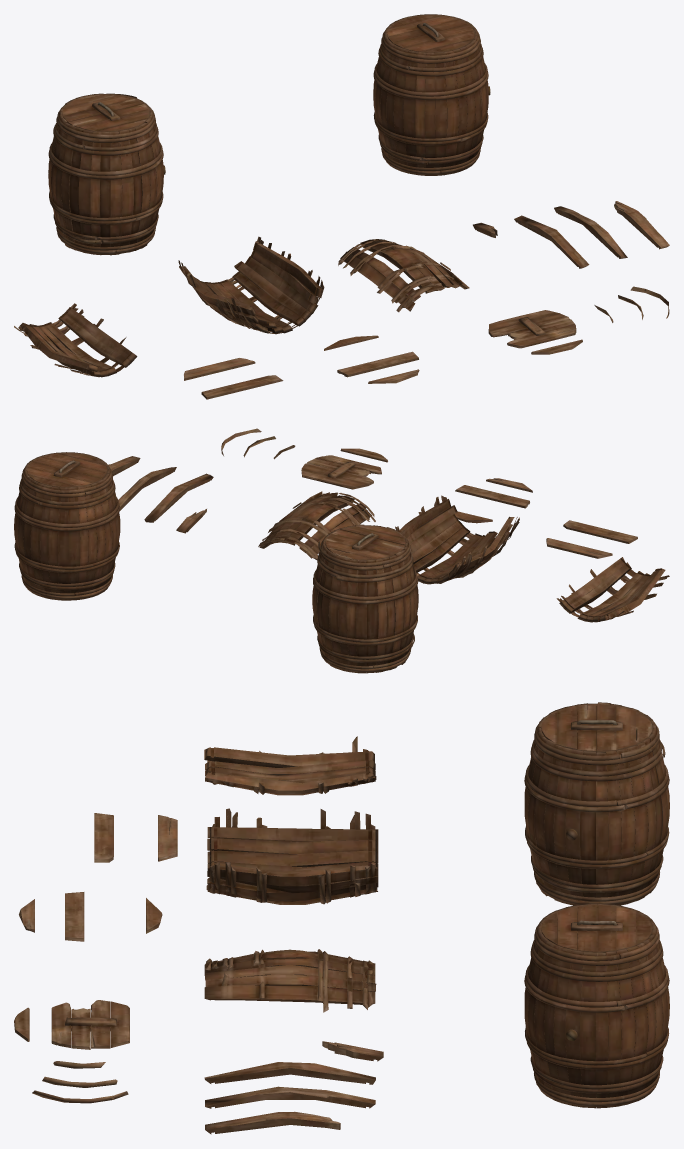
Rendered from ph-wooden_barrels_01.glb.
The picture shows the model from 3 angles, top to bottom: view 1: azimuth 30°, elevation 25°; view 2: azimuth 150°, elevation 25°; view 3: azimuth 270°, elevation 25°; orthographic projection. The views are drawn at different scales.
Visible parts, largest first — view 1: wooden_barrels_01_piece01, wooden_barrels_01_barrel01, wooden_barrels_01_barrel02; view 2: wooden_barrels_01_piece01, wooden_barrels_01_barrel02, wooden_barrels_01_barrel01; view 3: wooden_barrels_01_piece01, wooden_barrels_01_barrel01, wooden_barrels_01_barrel02.
Part boxes in pixels (left/top/right/bottom): wooden_barrels_01_piece01: left=14, top=201, right=669, bottom=399; wooden_barrels_01_barrel01: left=373, top=14, right=490, bottom=175; wooden_barrels_01_barrel02: left=48, top=93, right=165, bottom=255; wooden_barrels_01_piece01: left=108, top=428, right=669, bottom=622; wooden_barrels_01_barrel02: left=312, top=524, right=418, bottom=673; wooden_barrels_01_barrel01: left=14, top=452, right=120, bottom=600; wooden_barrels_01_piece01: left=14, top=736, right=383, bottom=1134; wooden_barrels_01_barrel01: left=524, top=903, right=669, bottom=1108; wooden_barrels_01_barrel02: left=524, top=702, right=669, bottom=905.
Size of the model in its own units: 4.44 by 0.9538 by 3.34.
Materials: 3 (3 with a texture image).
